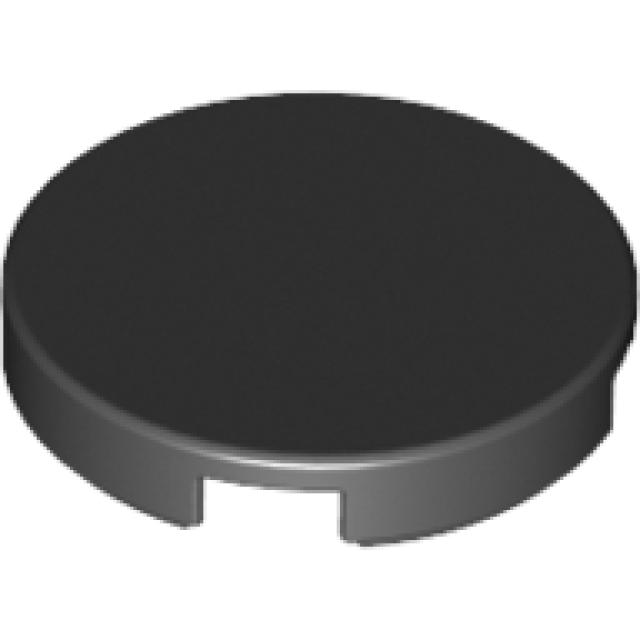Black_Small: (3, 93, 637, 550)
